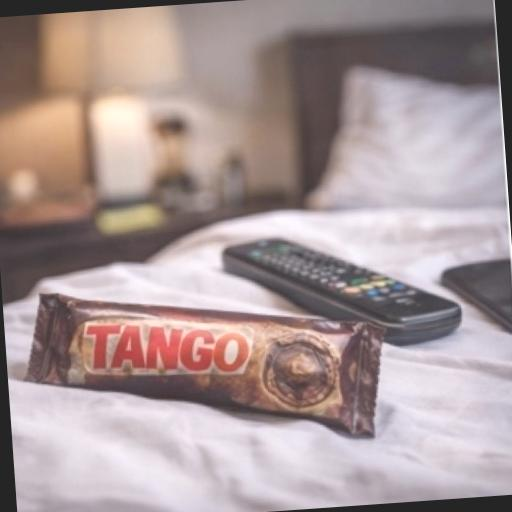tango: (0, 217, 425, 484)
